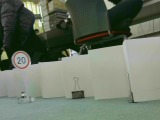speed_20: (11, 50, 31, 70)
